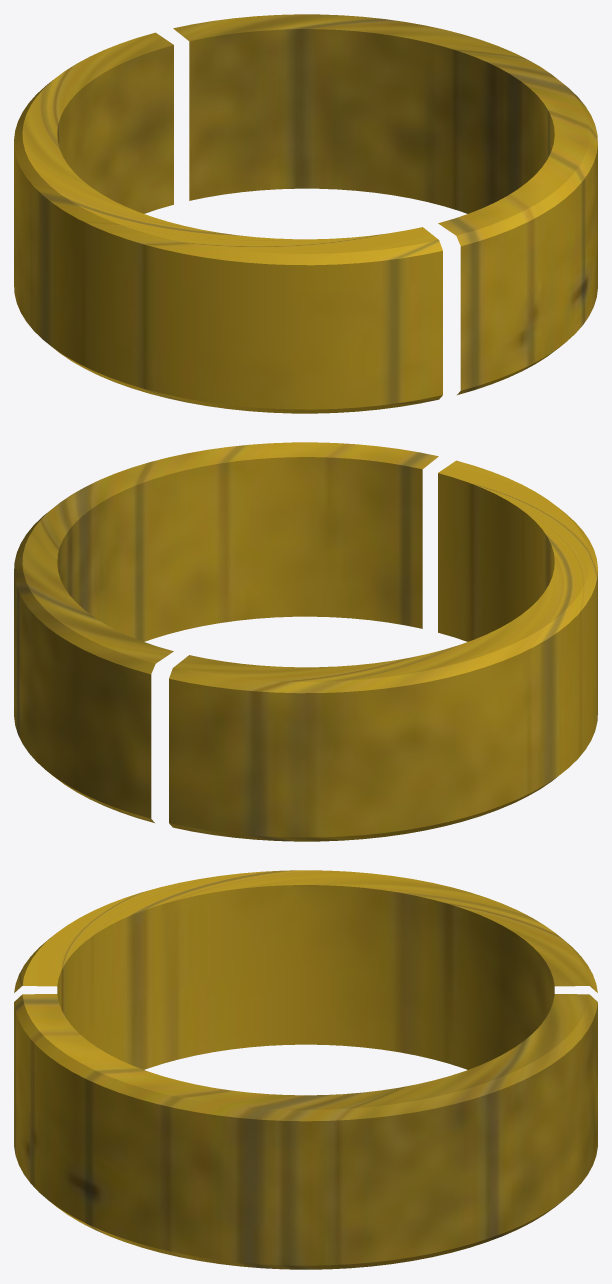
Rendered from SM_Anneaux_6po.glb.
3 renders of one model, top to bottom at view 1: azimuth 30°, elevation 25°; view 2: azimuth 150°, elevation 25°; view 3: azimuth 270°, elevation 25°, orthographic.
Parts seen in each view (by area): view 1: Anneau_6po_B, Anneau_6po_A; view 2: Anneau_6po_B, Anneau_6po_A; view 3: Anneau_6po_A, Anneau_6po_B.
Boxes of the visible parts, bbox=[...] form: Anneau_6po_B: bbox=[14, 32, 442, 413]; Anneau_6po_A: bbox=[173, 14, 597, 394]; Anneau_6po_B: bbox=[169, 460, 597, 841]; Anneau_6po_A: bbox=[14, 442, 438, 822]; Anneau_6po_A: bbox=[14, 994, 597, 1269]; Anneau_6po_B: bbox=[14, 870, 597, 1069].
Size of the model in its own units: 0.104 by 0.0314 by 0.1039.
Materials: 1 (1 with a texture image).
